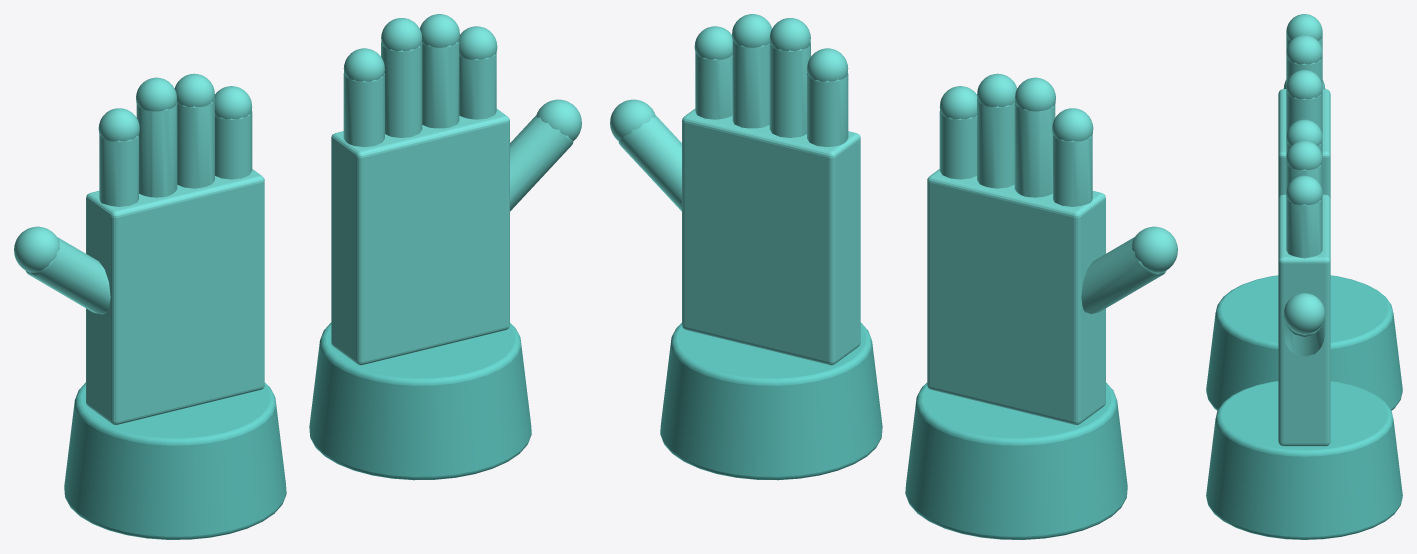
The model's file is gloves.glb.
The picture shows the model from 3 angles, left to right: view 1: azimuth 30°, elevation 25°; view 2: azimuth 150°, elevation 25°; view 3: azimuth 270°, elevation 25°; orthographic projection. The views are drawn at different scales.
Visible parts, largest first — view 1: gloves; view 2: gloves; view 3: gloves.
Boxes of the visible parts, x1,y1,x2,y2 form: gloves: [14, 14, 581, 539]; gloves: [610, 14, 1177, 539]; gloves: [1206, 14, 1402, 539].
Size of the model in its own units: 1.1 by 0.785 by 0.378.
